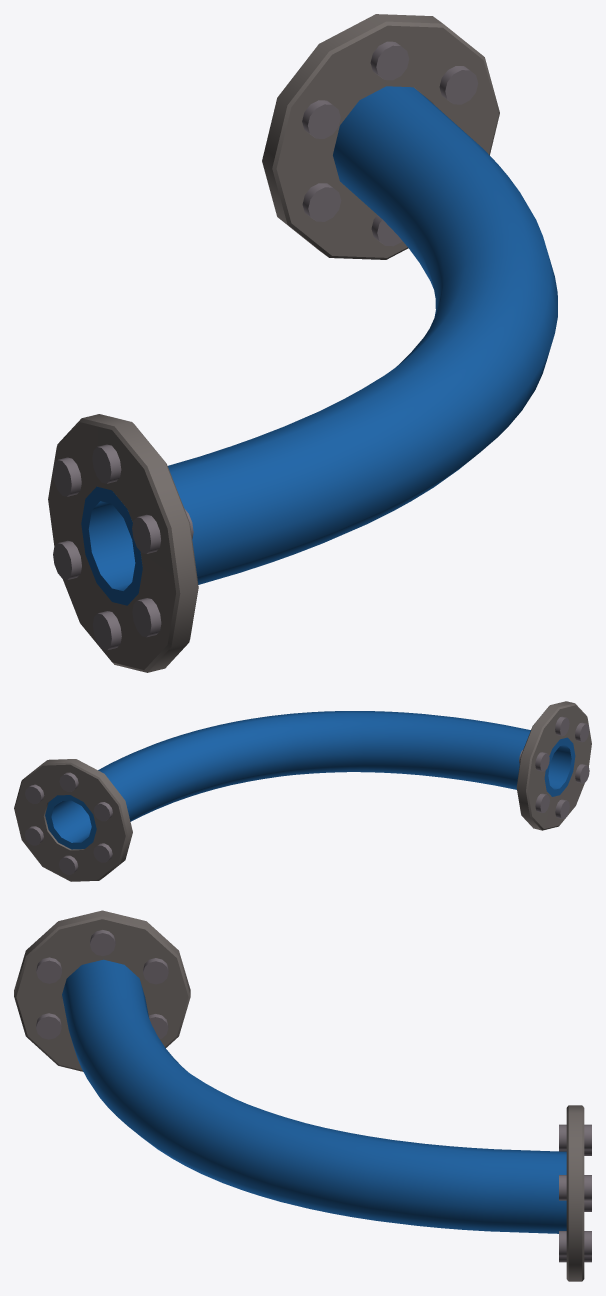
File: Pipe-Corner.fbx
3 renders of one model, top to bottom at view 1: azimuth 30°, elevation 25°; view 2: azimuth 150°, elevation 25°; view 3: azimuth 270°, elevation 25°, orthographic. The views are drawn at different scales.
Visible parts, largest first — view 1: Pipe-Corner; view 2: Pipe-Corner; view 3: Pipe-Corner.
Boxes of the visible parts, box(x1,y1,x2,y2) form: Pipe-Corner: box(48, 14, 557, 672); Pipe-Corner: box(14, 701, 591, 881); Pipe-Corner: box(14, 910, 591, 1281).
Bounding box in the file's own units: 8.57 × 2.62 × 8.57.
